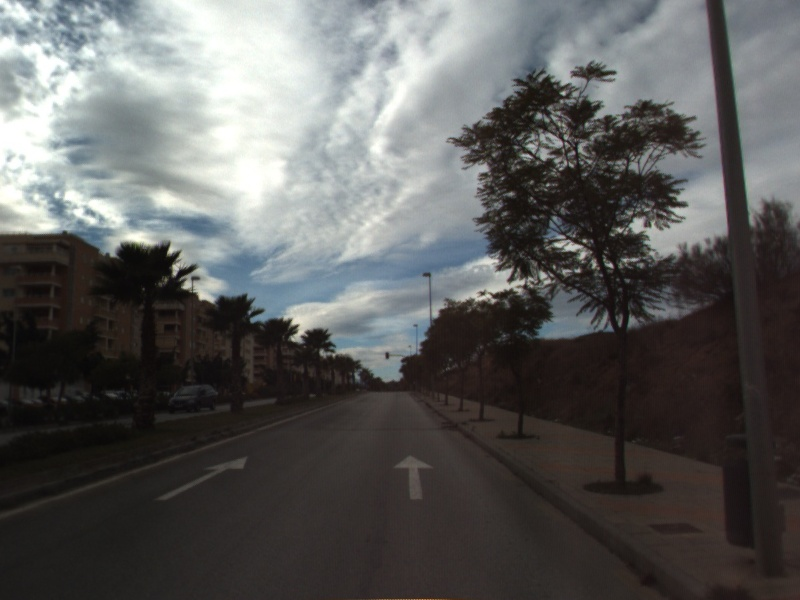STRAIGHT: (153, 454, 250, 502), (392, 453, 436, 501)
